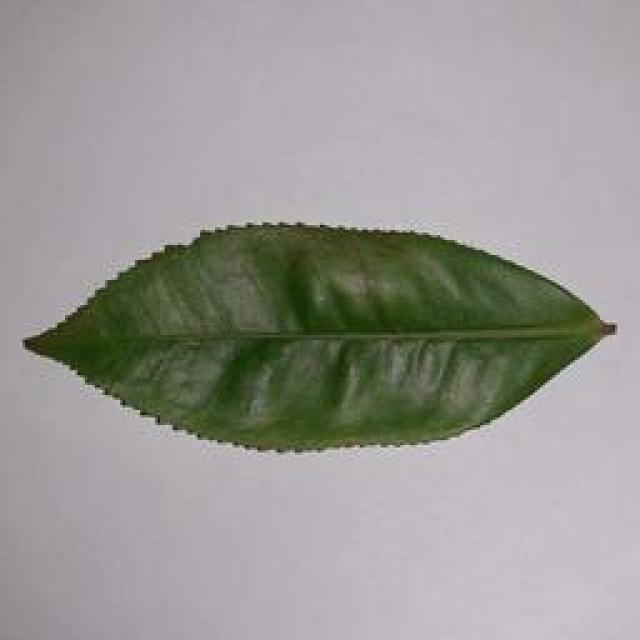Red Leaf Spot: (12, 217, 630, 468)
